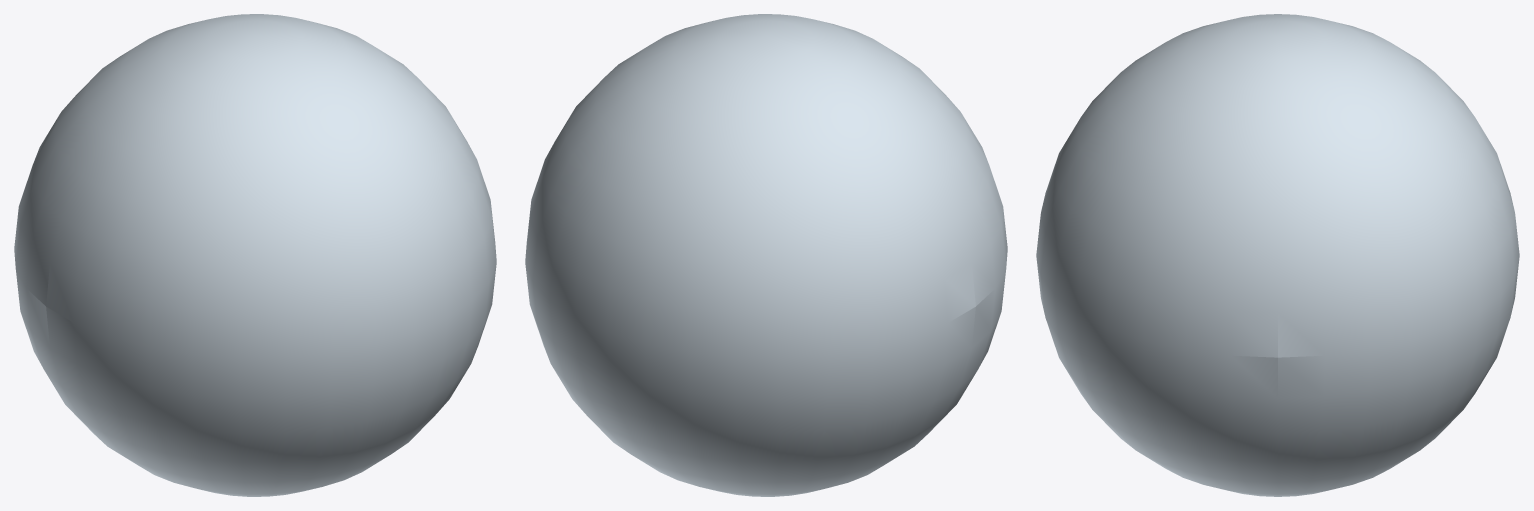
The model's file is bonus_5.fbx.
3 renders of one model, left to right at view 1: azimuth 30°, elevation 25°; view 2: azimuth 150°, elevation 25°; view 3: azimuth 270°, elevation 25°, orthographic.
Visible parts, largest first — view 1: bonus_5; view 2: bonus_5; view 3: bonus_5.
Part boxes in pixels (bbox=[...]): bonus_5: bbox=[14, 14, 496, 496]; bonus_5: bbox=[525, 14, 1007, 496]; bonus_5: bbox=[1036, 14, 1519, 496].
Bounding box in the file's own units: 200 × 200 × 200.
